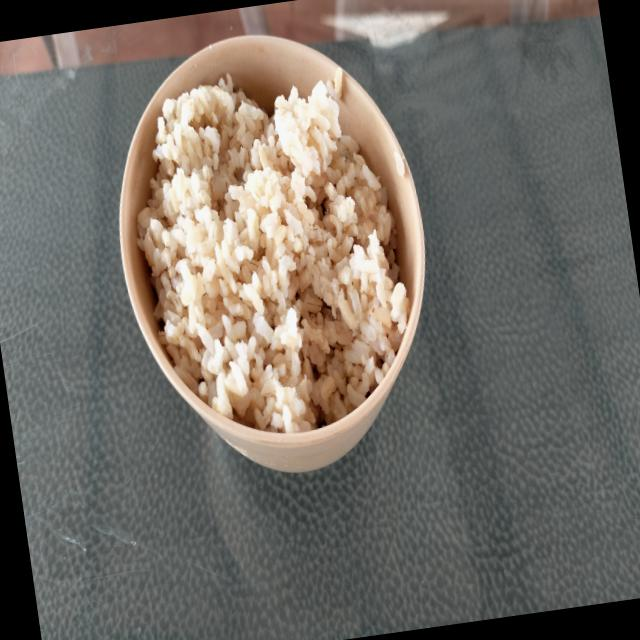brown-rice: (138, 72, 409, 434)
